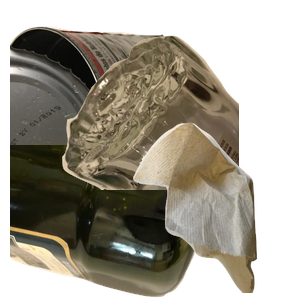glass: (60, 33, 300, 213)
metal: (10, 23, 193, 194)
plastic: (10, 145, 213, 300)
trash: (131, 120, 300, 300)
